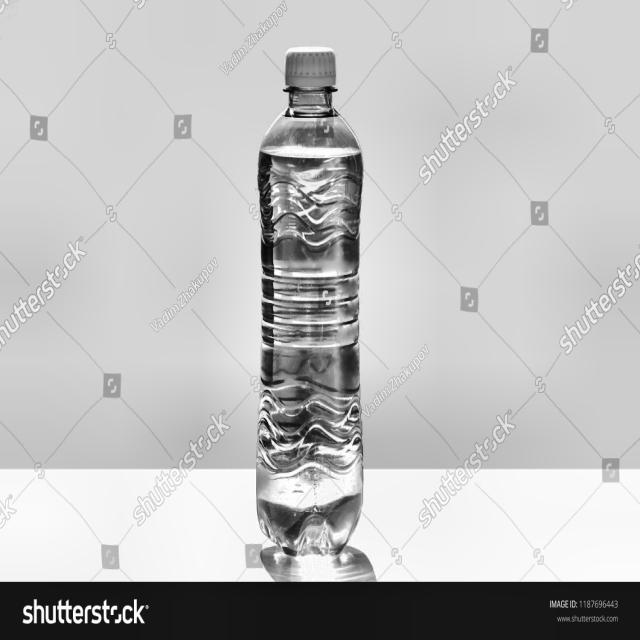waterbottle: (246, 28, 372, 568)
